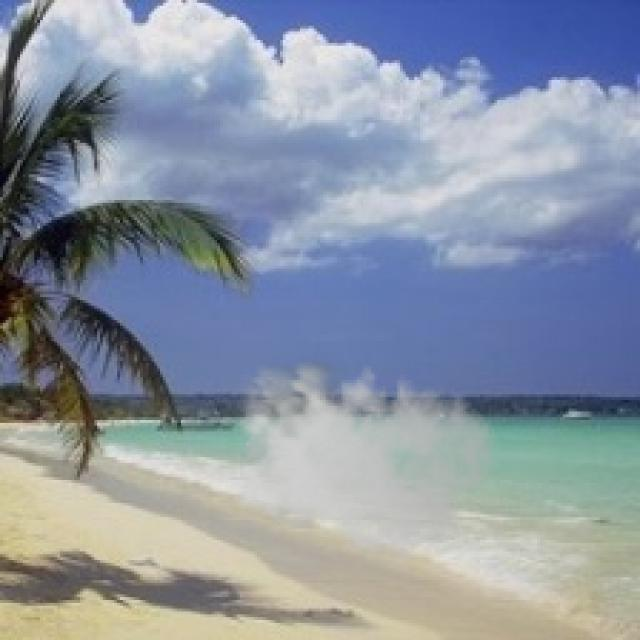smoke: (223, 351, 497, 563)
